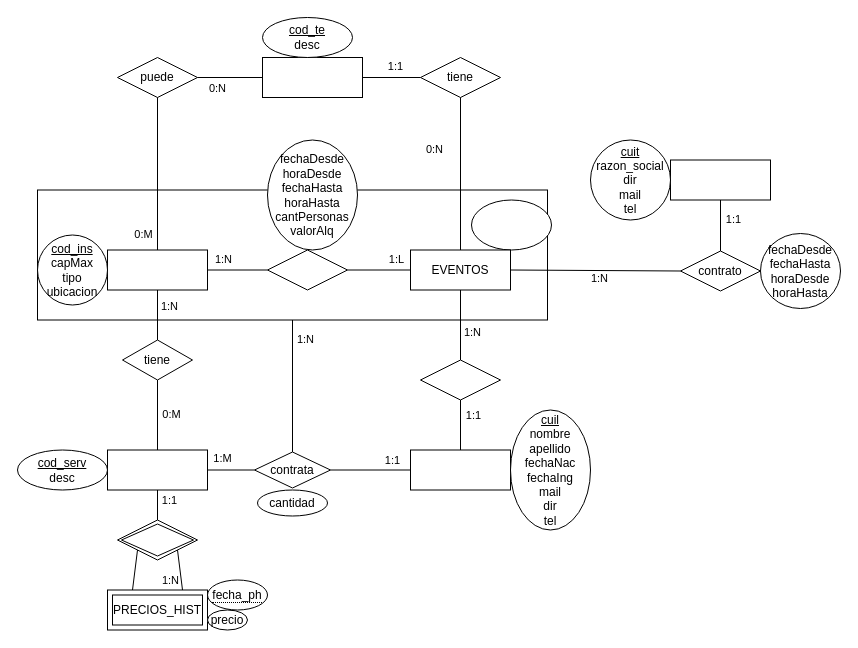
Image size: 858x648. Some labels were removed from this diagram. Each missing label, with the box of its shape:
depende: (116, 519, 198, 560)
EMPLEADOS: (410, 449, 510, 490)
INSTALACIONES: (106, 249, 208, 290)
nro_ev nombre_rep tel_rep: (470, 199, 552, 250)
ORGANIZADOR: (670, 159, 770, 200)
responsable: (420, 359, 500, 400)
SERVICIOS: (106, 449, 208, 490)
TIPOS_EVENTO: (262, 56, 362, 98)
usa: (266, 249, 348, 290)
